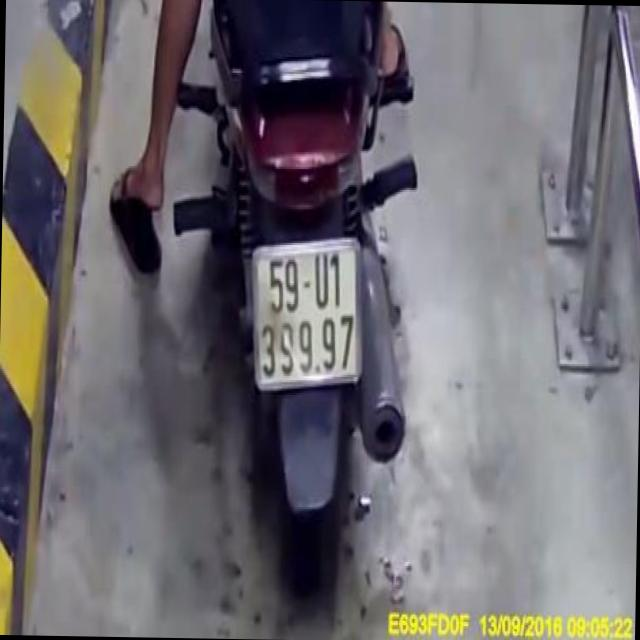LP: (246, 234, 367, 393)
